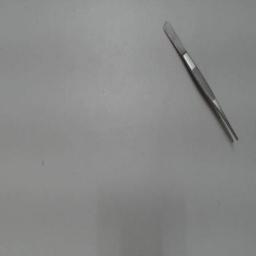Gillies Toothed Dissector: (156, 12, 246, 150)
